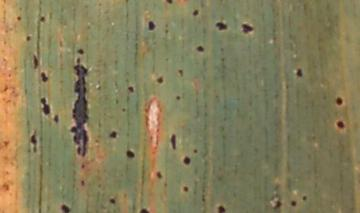tarspot: (69, 57, 89, 157), (40, 96, 51, 116), (30, 130, 38, 153), (240, 22, 254, 34), (214, 21, 228, 32), (169, 133, 177, 152), (125, 148, 136, 159), (60, 203, 71, 213), (181, 155, 191, 166), (40, 71, 49, 83), (335, 119, 345, 129), (147, 20, 156, 31), (295, 67, 304, 78), (32, 54, 39, 68), (335, 96, 343, 107), (109, 130, 118, 139), (137, 207, 150, 213), (177, 67, 184, 78), (195, 45, 204, 53), (155, 170, 163, 179), (217, 203, 224, 213), (290, 198, 297, 208), (127, 86, 135, 94), (156, 76, 164, 84), (182, 184, 189, 193), (53, 114, 59, 124), (276, 199, 282, 209), (77, 48, 85, 55), (192, 9, 199, 17), (38, 15, 45, 22), (25, 34, 31, 42), (301, 194, 307, 202), (16, 15, 22, 22), (109, 198, 116, 204), (175, 94, 181, 101), (192, 147, 198, 154), (165, 1, 174, 5), (80, 180, 85, 187), (121, 108, 127, 113), (82, 164, 85, 169)
